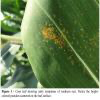Corn rust leaf: (19, 1, 99, 88)
